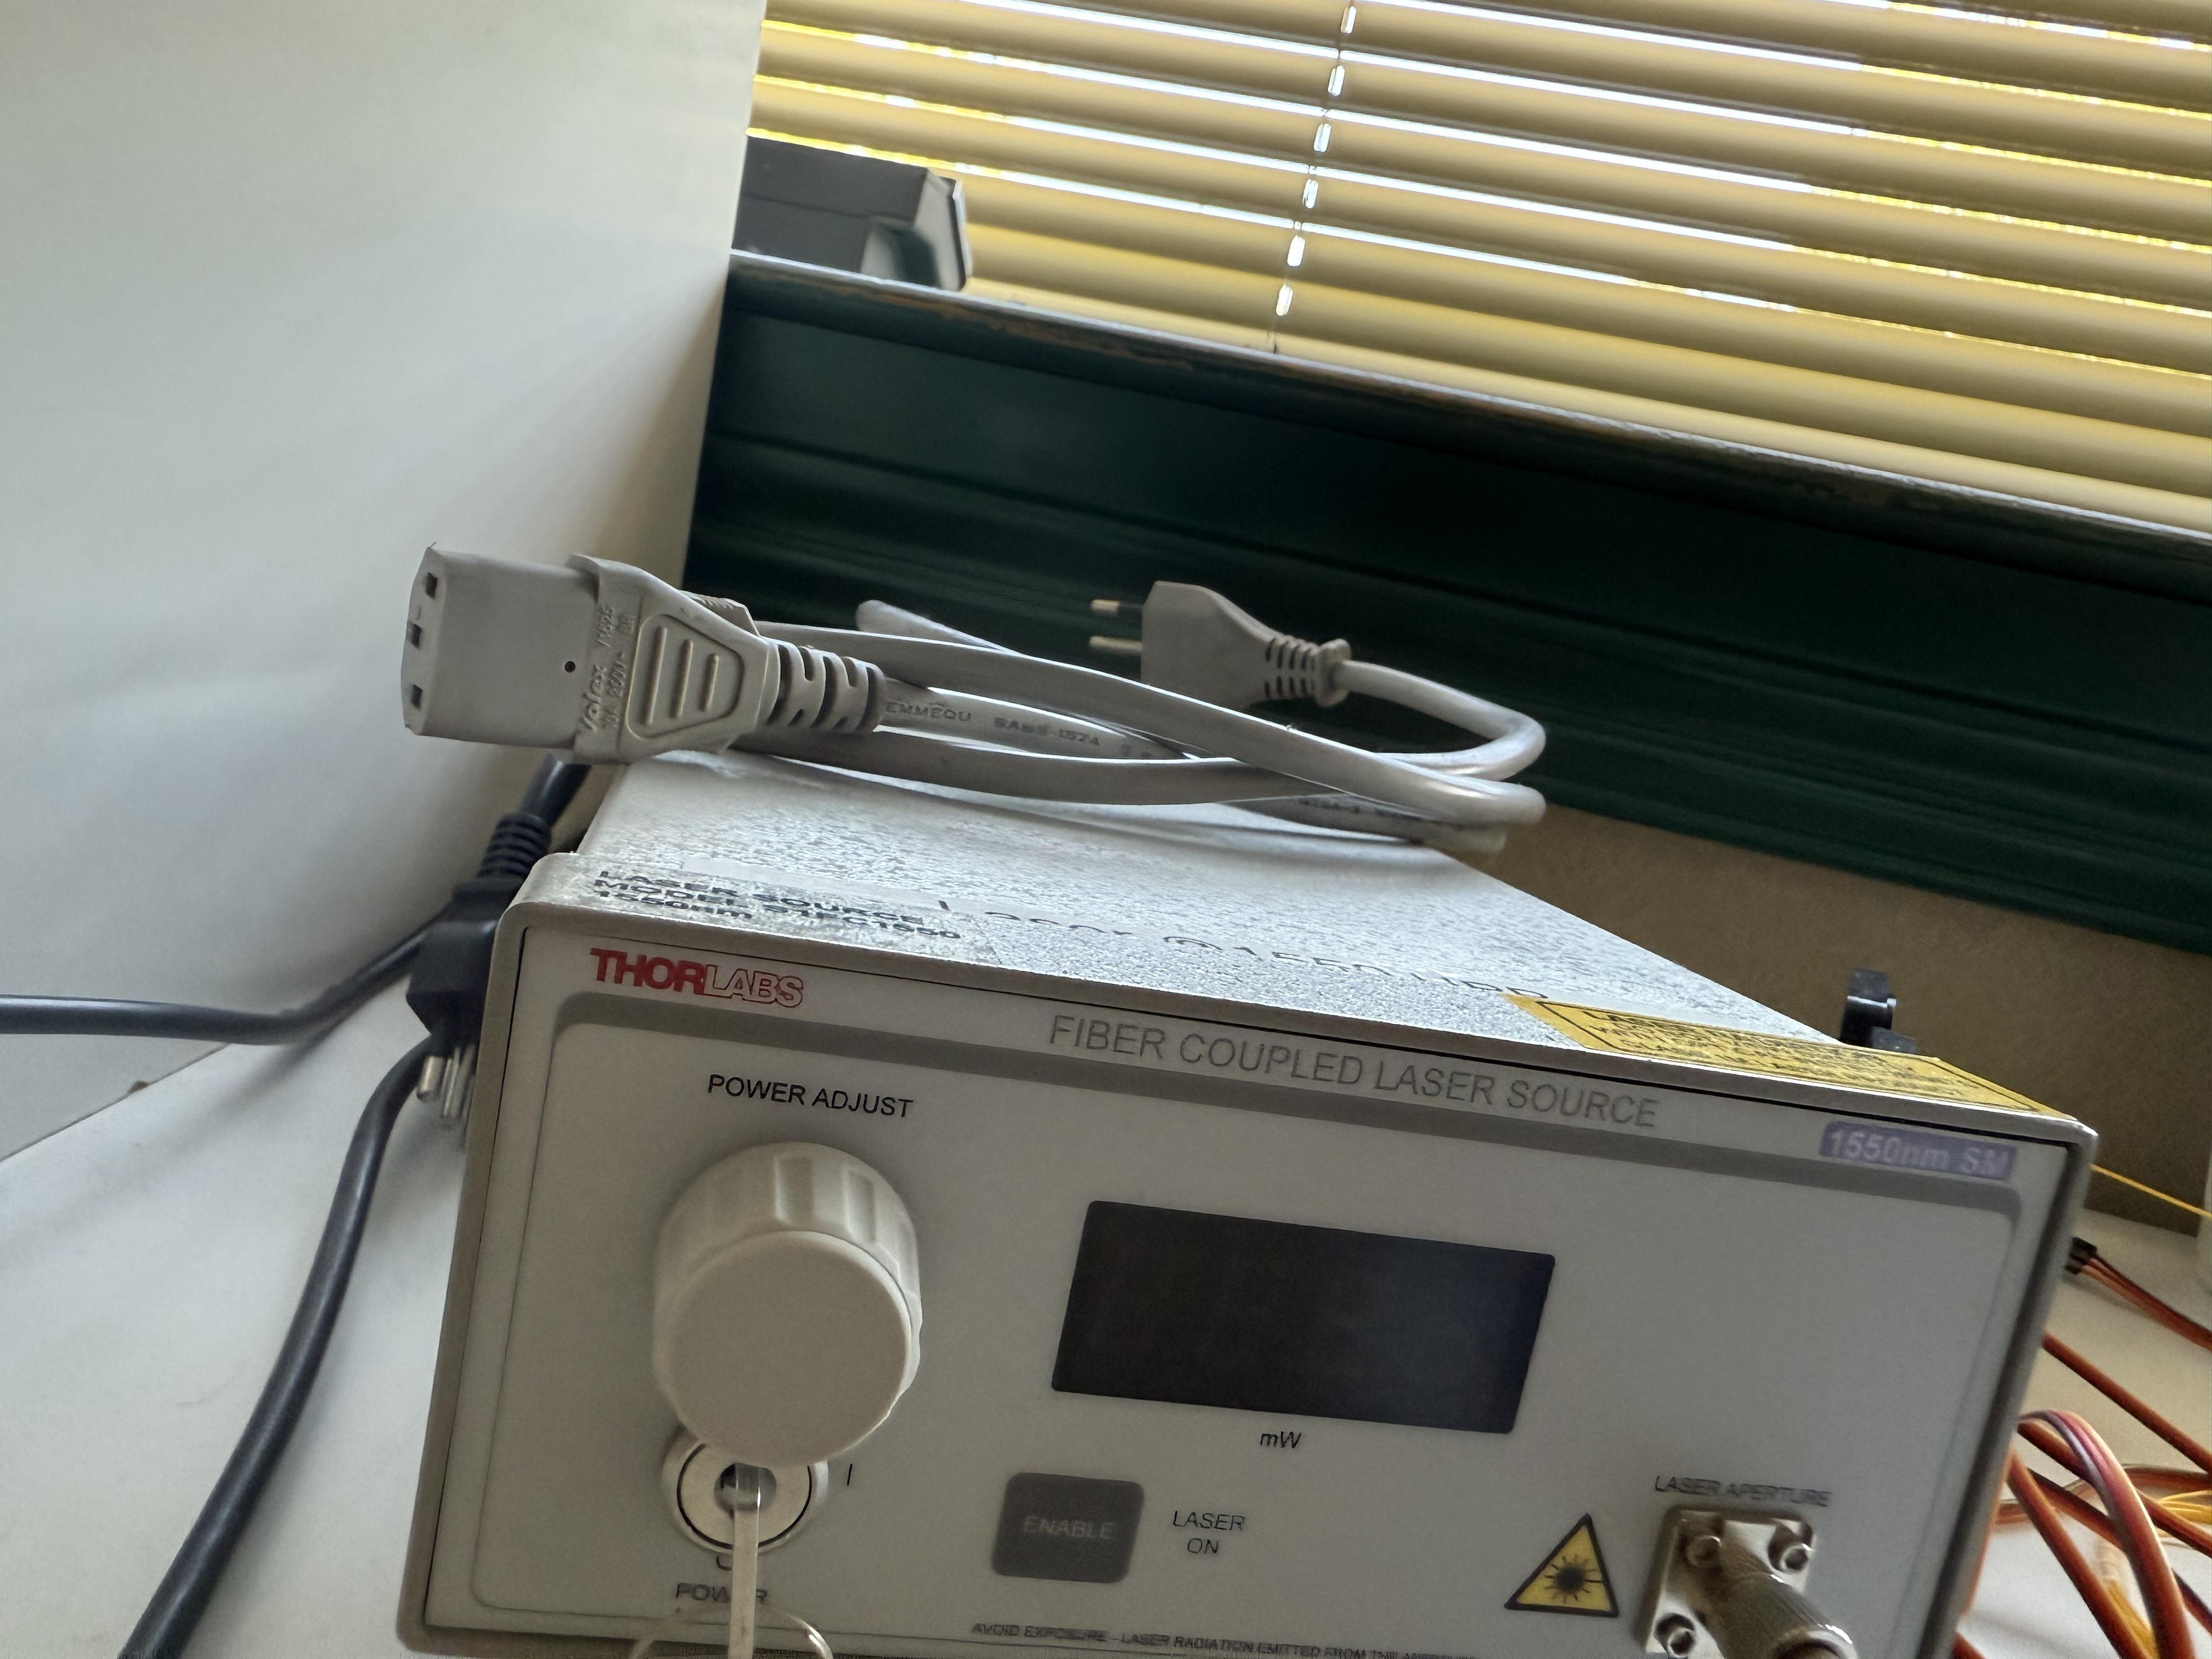laser: (380, 608, 2114, 1656)
